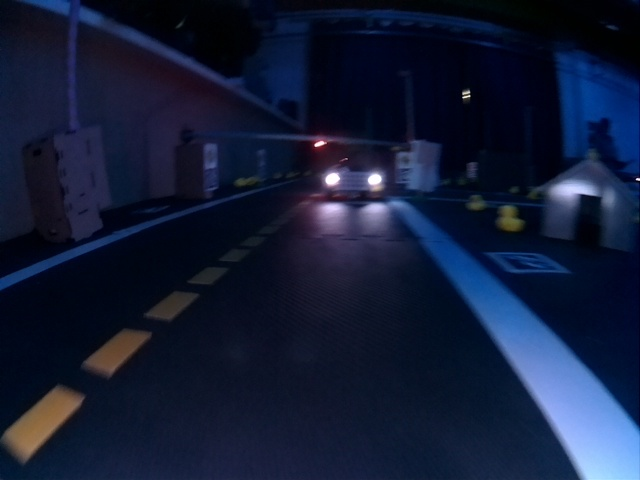Duckie: (495, 205, 523, 232), (466, 194, 485, 210)
Duckiebot: (322, 159, 383, 198)
QR code: (484, 253, 571, 273), (205, 169, 218, 189), (140, 205, 168, 213)
